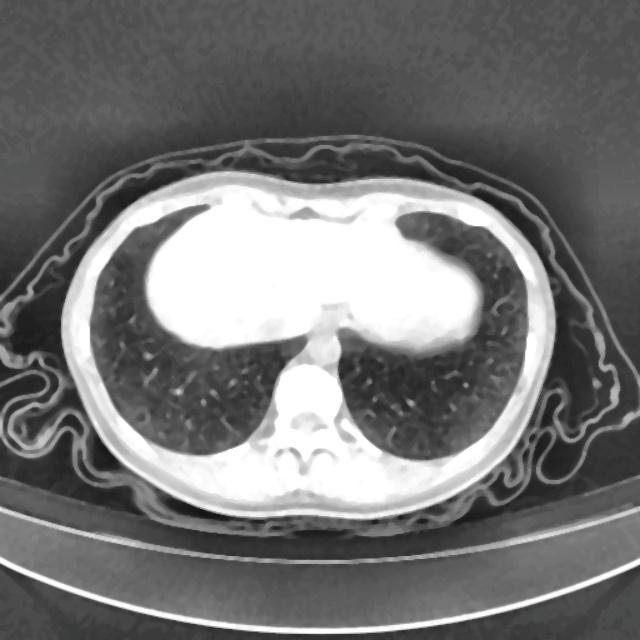covid: (59, 167, 558, 524)
